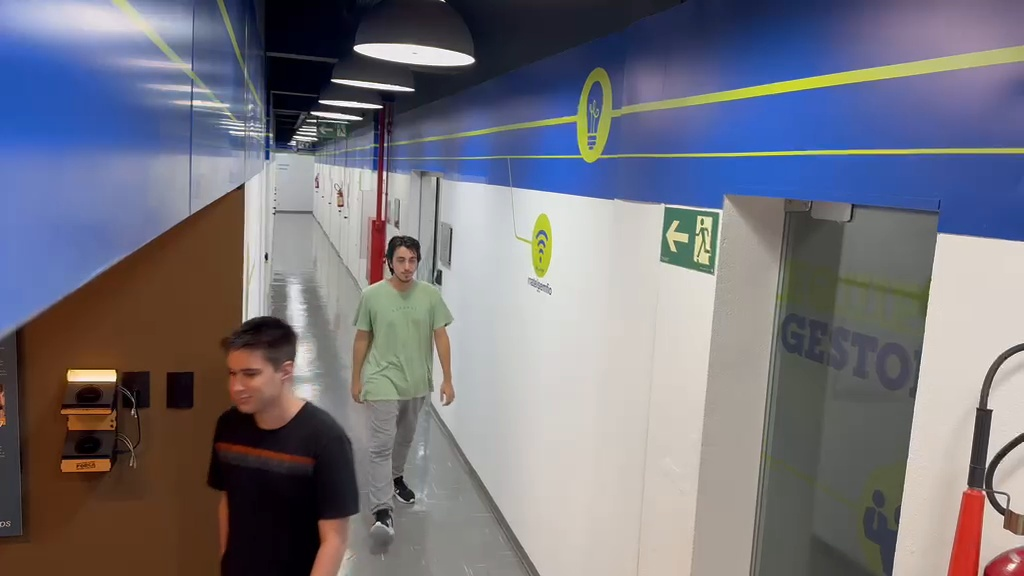person: (206, 315, 360, 574), (350, 235, 455, 526)
